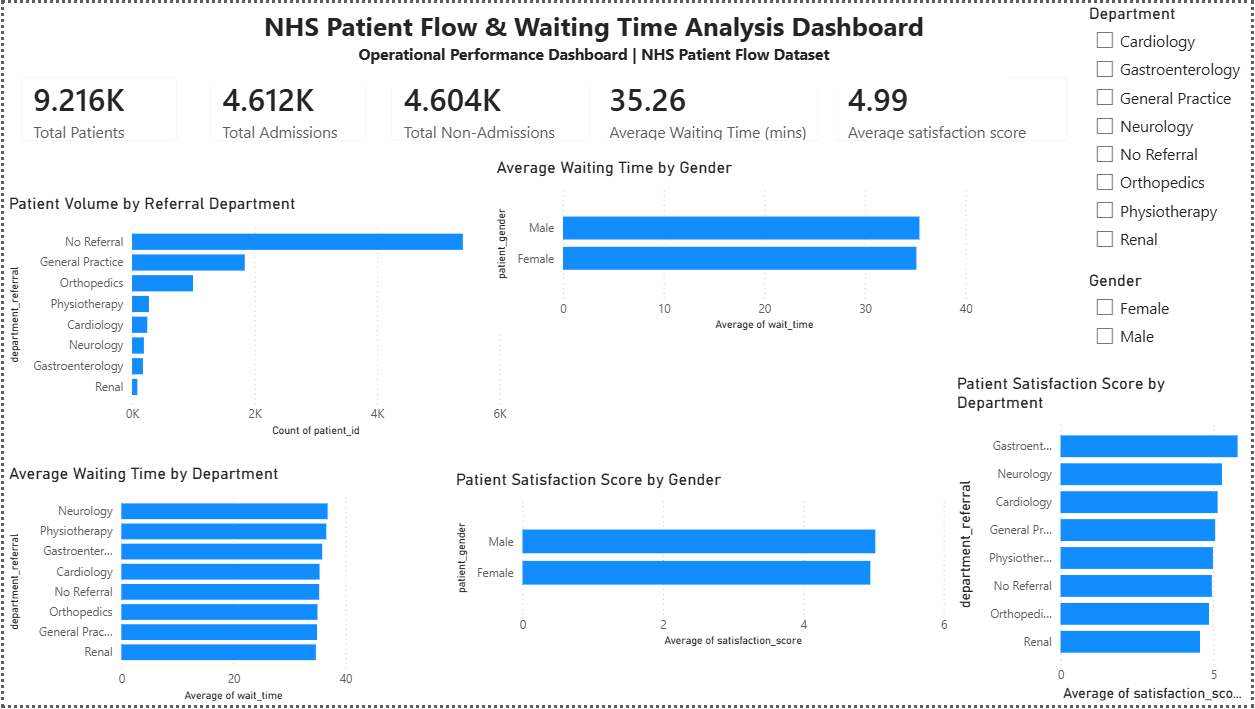

The page's visual inventory and layout, read from the dashboard file:
{"tool":"powerbi","page":{"name":"Executive Overview","canvas":[1280,720],"ordinal":0},"visuals":[{"type":"cardVisual","fields":{"Data":["Count(public patient_flow.patient_id)"]},"box":[0,58,194,100],"z":0},{"type":"cardVisual","fields":{"Data":["Count(public patient_flow.patient_id)"]},"box":[194,58,194,100],"z":1000},{"type":"cardVisual","fields":{"Data":["Avg(public patient_flow.wait_time)"]},"box":[590,58,262,100],"z":2000},{"type":"cardVisual","fields":{"Data":["Count(public patient_flow.patient_id)"]},"box":[380,58,238,100],"z":3000},{"type":"cardVisual","fields":{"Data":["Avg(public patient_flow.satisfaction_score)"]},"box":[836,58,272,100],"z":4000},{"type":"clusteredBarChart","title":"Patient Volume by Referral Department","fields":{"Category":["public patient_flow.department_referral"],"Y":["CountNonNull(public patient_flow.patient_id)"]},"box":[0,195,520,253.3],"z":5000},{"type":"clusteredBarChart","title":"Average Waiting Time by Department","fields":{"Category":["public patient_flow.department_referral"],"Y":["Avg(public patient_flow.wait_time)"]},"box":[0,472,362,248],"z":6000},{"type":"clusteredBarChart","title":"Average Waiting Time by Gender","fields":{"Category":["public patient_flow.patient_gender"],"Y":["Avg(public patient_flow.wait_time)"]},"box":[500,158,498,182],"z":8000},{"type":"clusteredBarChart","title":"Patient Satisfaction Score by Gender","fields":{"Category":["public patient_flow.patient_gender"],"Y":["Avg(public patient_flow.satisfaction_score)"]},"box":[458,478,514,186],"z":9000},{"type":"slicer","title":"Gender","fields":{"Values":["public patient_flow.patient_gender"]},"box":[1108,274,172,86],"z":10000},{"type":"slicer","title":"Department","fields":{"Values":["public patient_flow.department_referral"]},"box":[1108,0,172,264],"z":11000},{"type":"clusteredBarChart","title":"Patient Satisfaction Score by Department","fields":{"Category":["public patient_flow.department_referral"],"Y":["Avg(public patient_flow.satisfaction_score)"]},"box":[972,380,308,340],"z":12000},{"type":"textbox","box":[180,0,850,86],"z":13000}]}

Visuals, with their boxes in screenshot pixels (x1, y1, x2, y2), scaled from the page's 1280x720 canvas onto the 1255x709 screenshot:
cardVisual - Count(public patient_flow.patient_id): Rect(0, 57, 190, 156)
cardVisual - Count(public patient_flow.patient_id): Rect(190, 57, 380, 156)
cardVisual - Avg(public patient_flow.wait_time): Rect(578, 57, 835, 156)
cardVisual - Count(public patient_flow.patient_id): Rect(373, 57, 606, 156)
cardVisual - Avg(public patient_flow.satisfaction_score): Rect(820, 57, 1086, 156)
"Patient Volume by Referral Department" clusteredBarChart: Rect(0, 192, 510, 441)
"Average Waiting Time by Department" clusteredBarChart: Rect(0, 465, 355, 708)
"Average Waiting Time by Gender" clusteredBarChart: Rect(490, 156, 979, 335)
"Patient Satisfaction Score by Gender" clusteredBarChart: Rect(449, 471, 953, 654)
"Gender" slicer: Rect(1086, 270, 1254, 354)
"Department" slicer: Rect(1086, 0, 1254, 260)
"Patient Satisfaction Score by Department" clusteredBarChart: Rect(953, 374, 1254, 708)
textbox: Rect(176, 0, 1010, 85)
